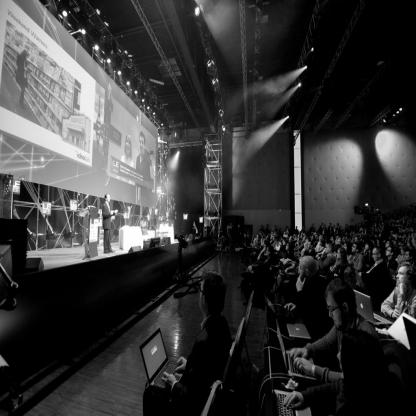board: (268, 344, 310, 416), (276, 318, 318, 381), (136, 332, 178, 392), (354, 290, 393, 326), (387, 312, 416, 351), (265, 293, 294, 321), (286, 322, 310, 339), (314, 258, 326, 278), (242, 258, 253, 274)
